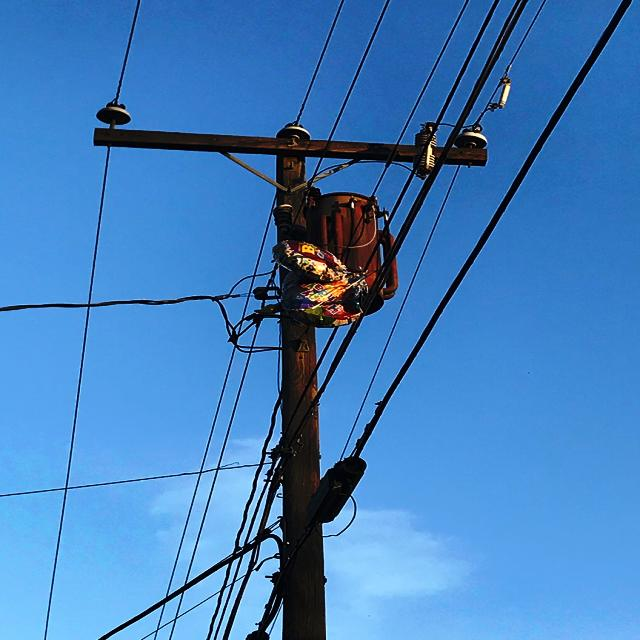obstruction: (278, 239, 369, 326)
poles: (94, 123, 489, 275), (283, 322, 319, 525), (287, 519, 328, 639)
wires: (310, 0, 639, 524), (0, 0, 203, 639), (278, 0, 553, 147), (190, 353, 280, 639), (175, 264, 291, 343)
